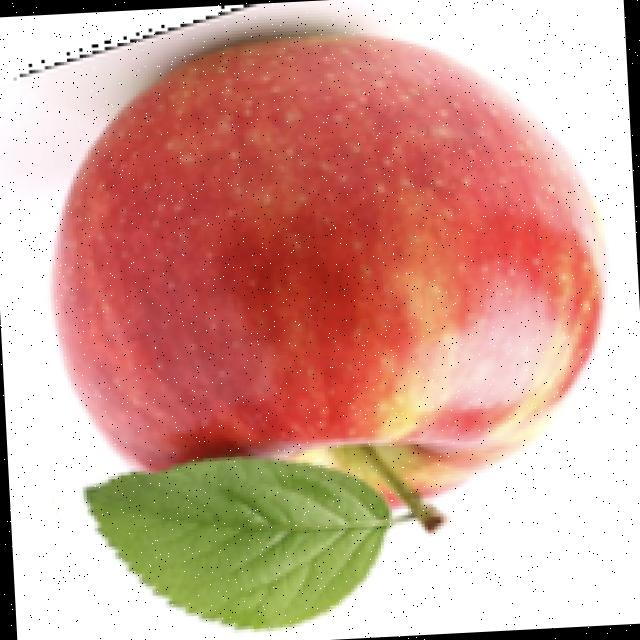apple: (12, 4, 613, 636)
